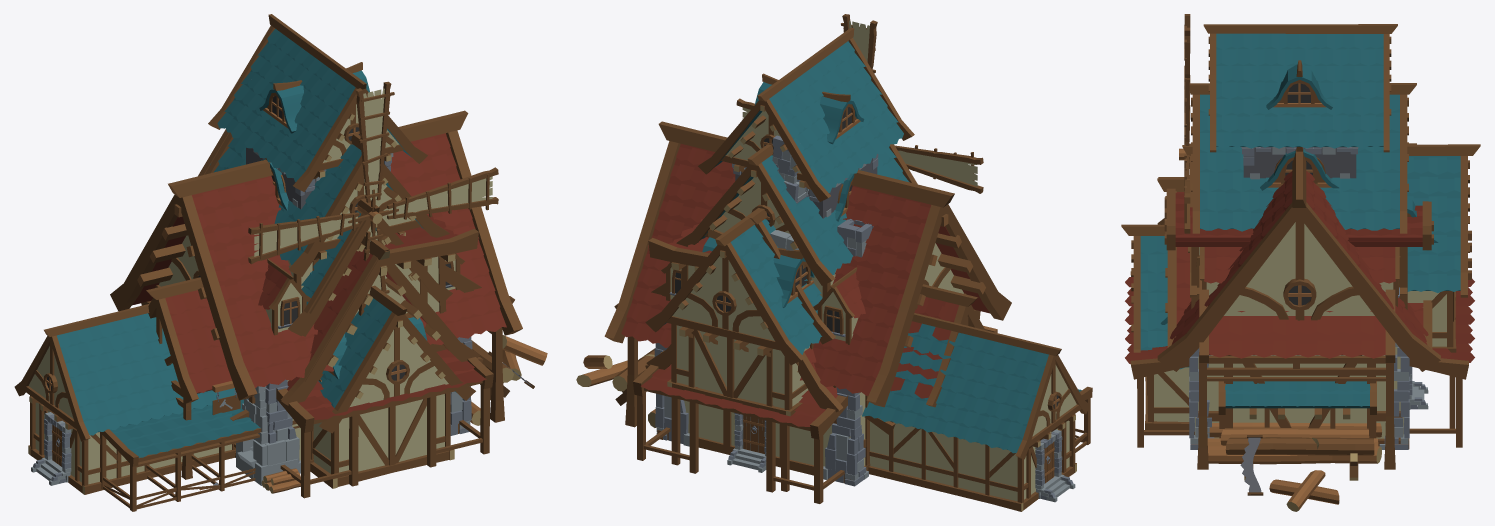
3 views of the same model, side by side, from view 1: azimuth 30°, elevation 25°; view 2: azimuth 150°, elevation 25°; view 3: azimuth 270°, elevation 25° (orthographic). The views are drawn at different scales.
Parts seen in each view (by area): view 1: Stable, Inn, Bell_Tower, Blacksmith, Mill_Blades, Sawmill, Mill, House_2, House_1; view 2: Inn, Stable, House_2, Bell_Tower, Mill, Blacksmith, Sawmill, Mill_Blades, House_1; view 3: Inn, Sawmill, Bell_Tower, Mill, House_2, Stable, Blacksmith, Mill_Blades.
Part boxes in pixels (<box>): Stable: <box>14,285,475,511</box>; Inn: <box>110,110,522,498</box>; Bell_Tower: <box>208,14,427,209</box>; Blacksmith: <box>146,234,479,493</box>; Mill_Blades: <box>248,81,498,315</box>; Sawmill: <box>281,214,547,425</box>; Mill: <box>205,132,483,420</box>; House_2: <box>198,129,452,336</box>; House_1: <box>288,198,439,336</box>; Inn: <box>604,121,1011,503</box>; Stable: <box>862,313,1092,511</box>; House_2: <box>645,208,873,491</box>; Bell_Tower: <box>698,27,914,218</box>; Mill: <box>645,135,917,434</box>; Blacksmith: <box>646,230,997,411</box>; Sawmill: <box>576,219,842,427</box>; Mill_Blades: <box>736,14,983,193</box>; House_1: <box>748,194,835,344</box>; Inn: <box>1125,150,1474,449</box>; Sawmill: <box>1157,178,1433,511</box>; Bell_Tower: <box>1203,24,1397,179</box>; Mill: <box>1189,83,1416,438</box>; House_2: <box>1182,144,1480,428</box>; Stable: <box>1121,224,1189,429</box>; Blacksmith: <box>1158,177,1432,348</box>; Mill_Blades: <box>1179,14,1190,233</box>.
Bounding box in the file's own units: 6.73 × 5.06 × 4.12.
